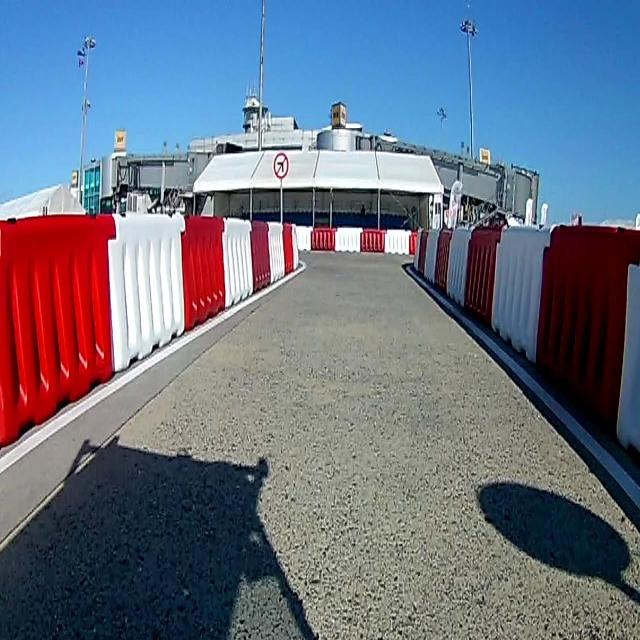soladonulmez: (275, 153, 288, 178)
